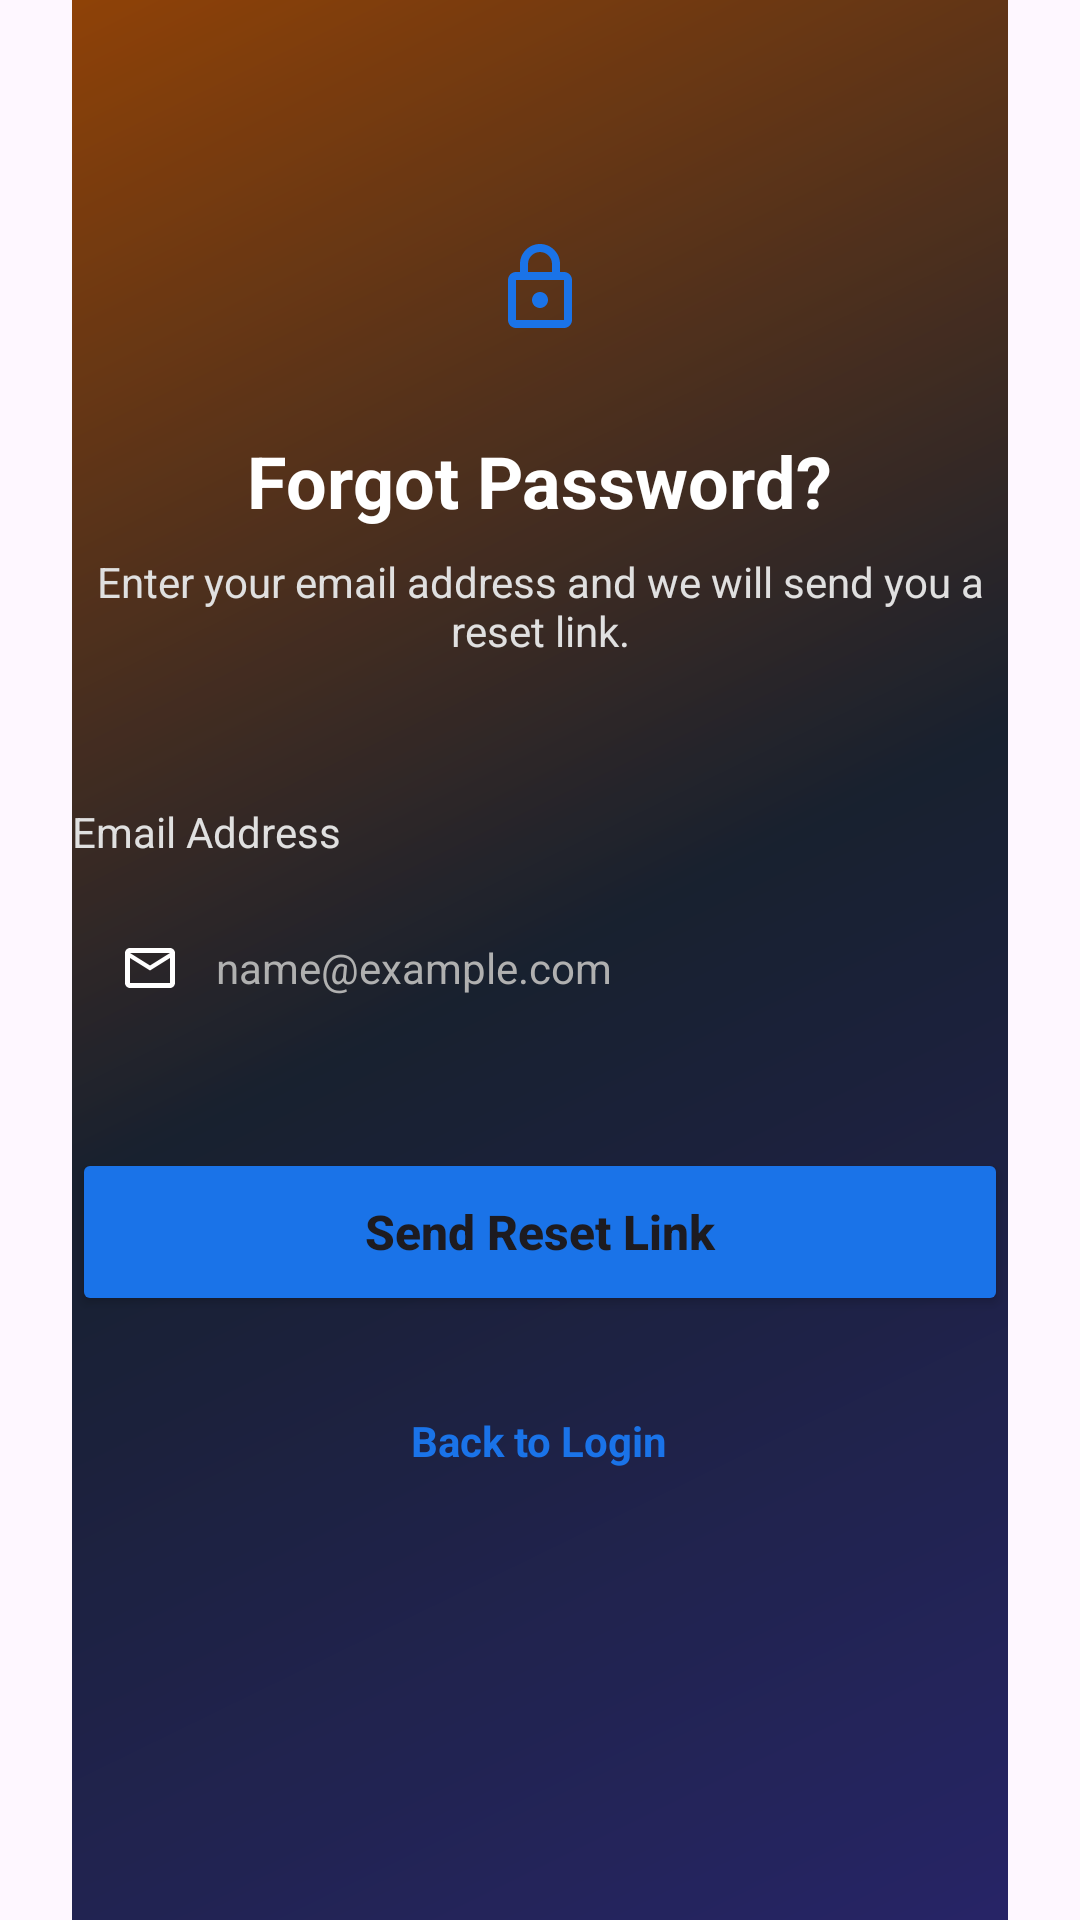

Named icons in this screenshot (1080*1920) and their bounding boxes, (x1, y1, x2, y2):
lock: (508, 244, 572, 328)
